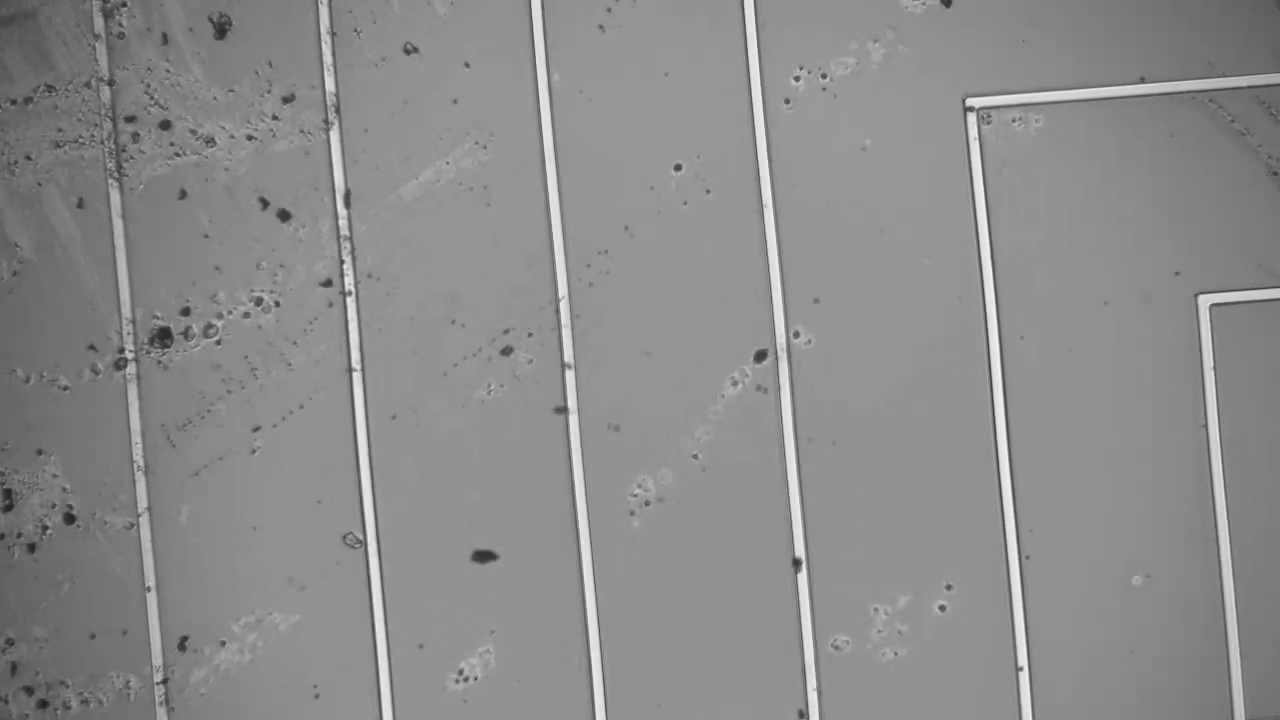stains_enbedded: (108, 349, 147, 375), (788, 553, 813, 576)
